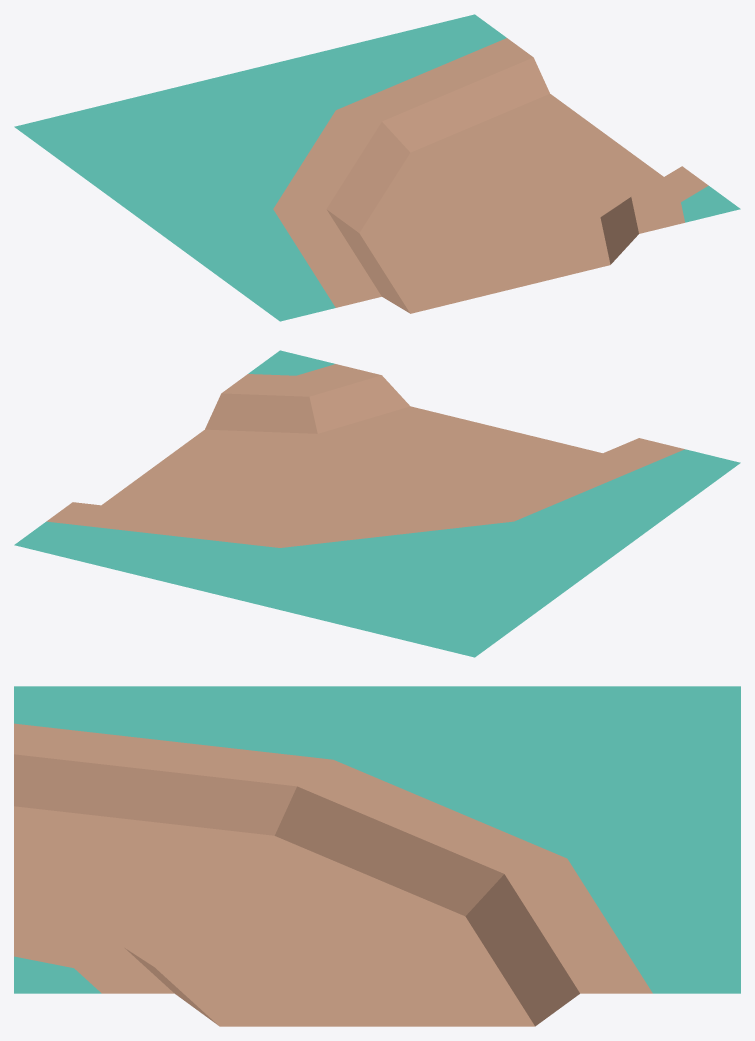
Rendered from ground_pathBend.glb.
The picture shows the model from 3 angles, top to bottom: view 1: azimuth 30°, elevation 25°; view 2: azimuth 150°, elevation 25°; view 3: azimuth 270°, elevation 25°; orthographic projection. The views are drawn at different scales.
Visible parts, largest first — view 1: ground_pathBend; view 2: ground_pathBend; view 3: ground_pathBend.
Boxes of the visible parts, x1,y1,x2,y2 form: ground_pathBend: [14, 14, 740, 321]; ground_pathBend: [14, 350, 740, 657]; ground_pathBend: [14, 686, 740, 1026].
Bounding box in the file's own units: 1 × 0.05 × 1.
